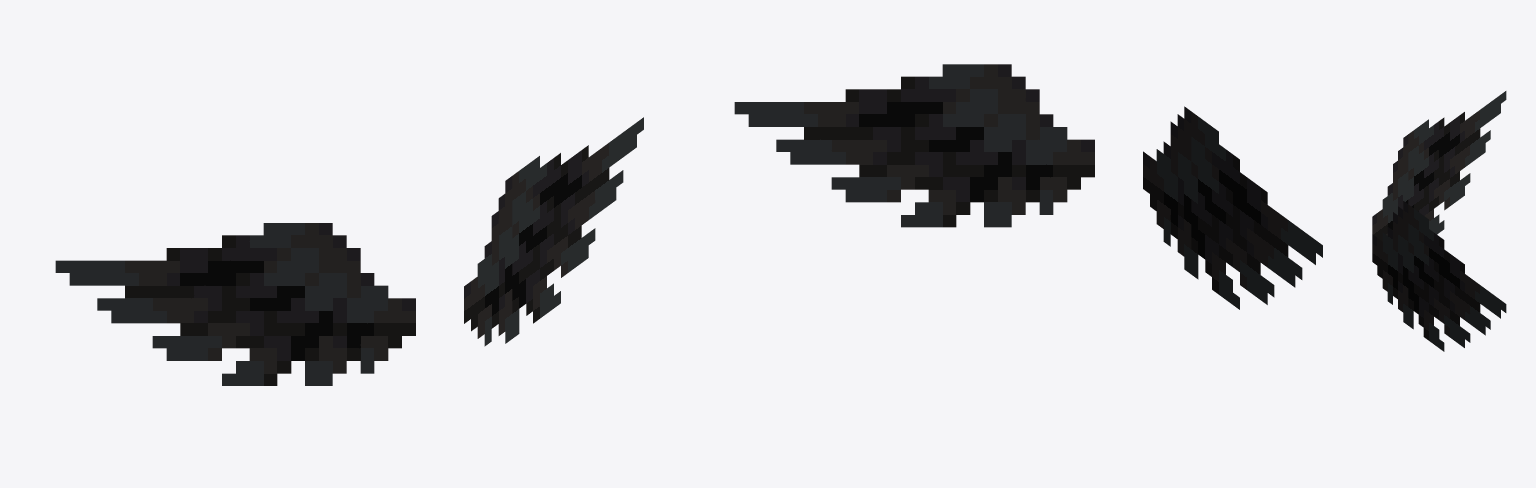
File: sl_angel_wings.glb
The picture shows the model from 3 angles, left to right: view 1: azimuth 30°, elevation 25°; view 2: azimuth 150°, elevation 25°; view 3: azimuth 270°, elevation 25°; orthographic projection. The views are drawn at different scales.
Visible parts, largest first — view 1: bb_angel_wings; view 2: bb_angel_wings; view 3: bb_angel_wings.
Part boxes in pixels (x1,y1,x2,y2): bb_angel_wings: [55, 117, 643, 385]; bb_angel_wings: [734, 64, 1322, 309]; bb_angel_wings: [1372, 91, 1506, 351].
Bounding box in the file's own units: 3.39 × 1.5 × 0.9062.
Materials: 1 (1 with a texture image).
